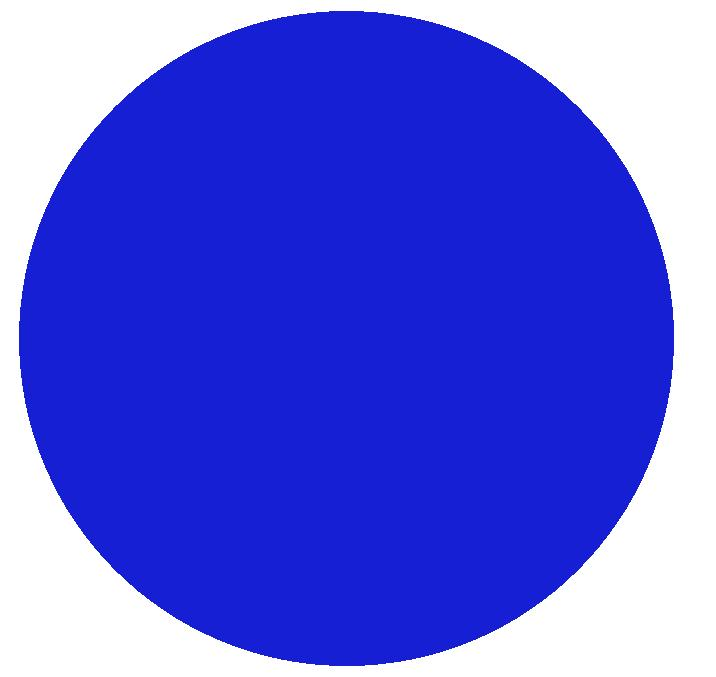blue_circle: (7, 5, 703, 673)
